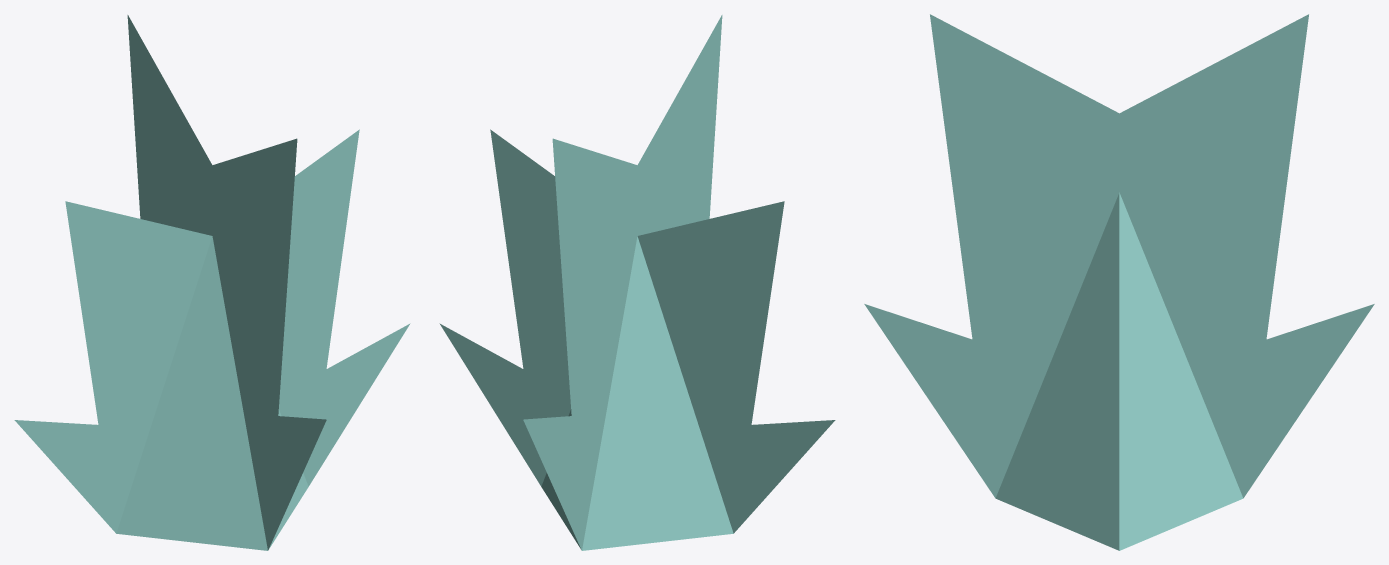
File: plant_flatSmall.glb
3 renders of one model, left to right at view 1: azimuth 30°, elevation 25°; view 2: azimuth 150°, elevation 25°; view 3: azimuth 270°, elevation 25°, orthographic. The views are drawn at different scales.
Parts seen in each view (by area): view 1: plant_flatSmall; view 2: plant_flatSmall; view 3: plant_flatSmall.
Part boxes in pixels (x1,y1,x2,y2): plant_flatSmall: (14,15,410,550); plant_flatSmall: (439,15,835,550); plant_flatSmall: (864,14,1374,550).
Size of the model in its own units: 0.2717 by 0.2843 by 0.2717.
